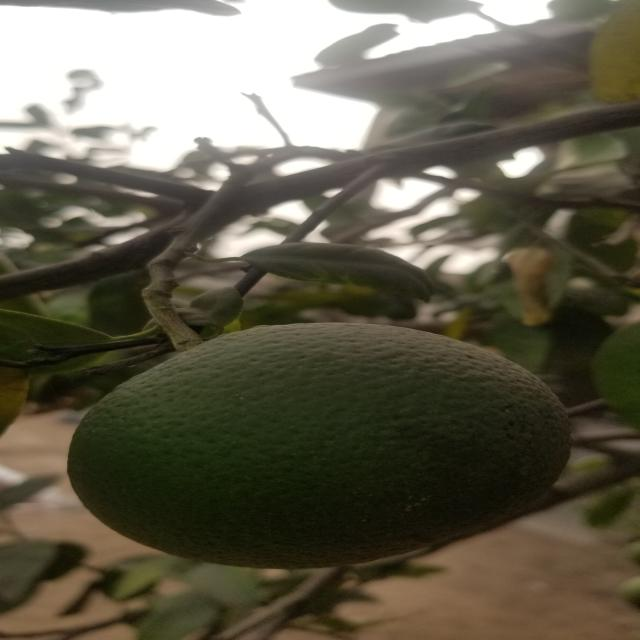Unripe: (75, 321, 558, 568)
